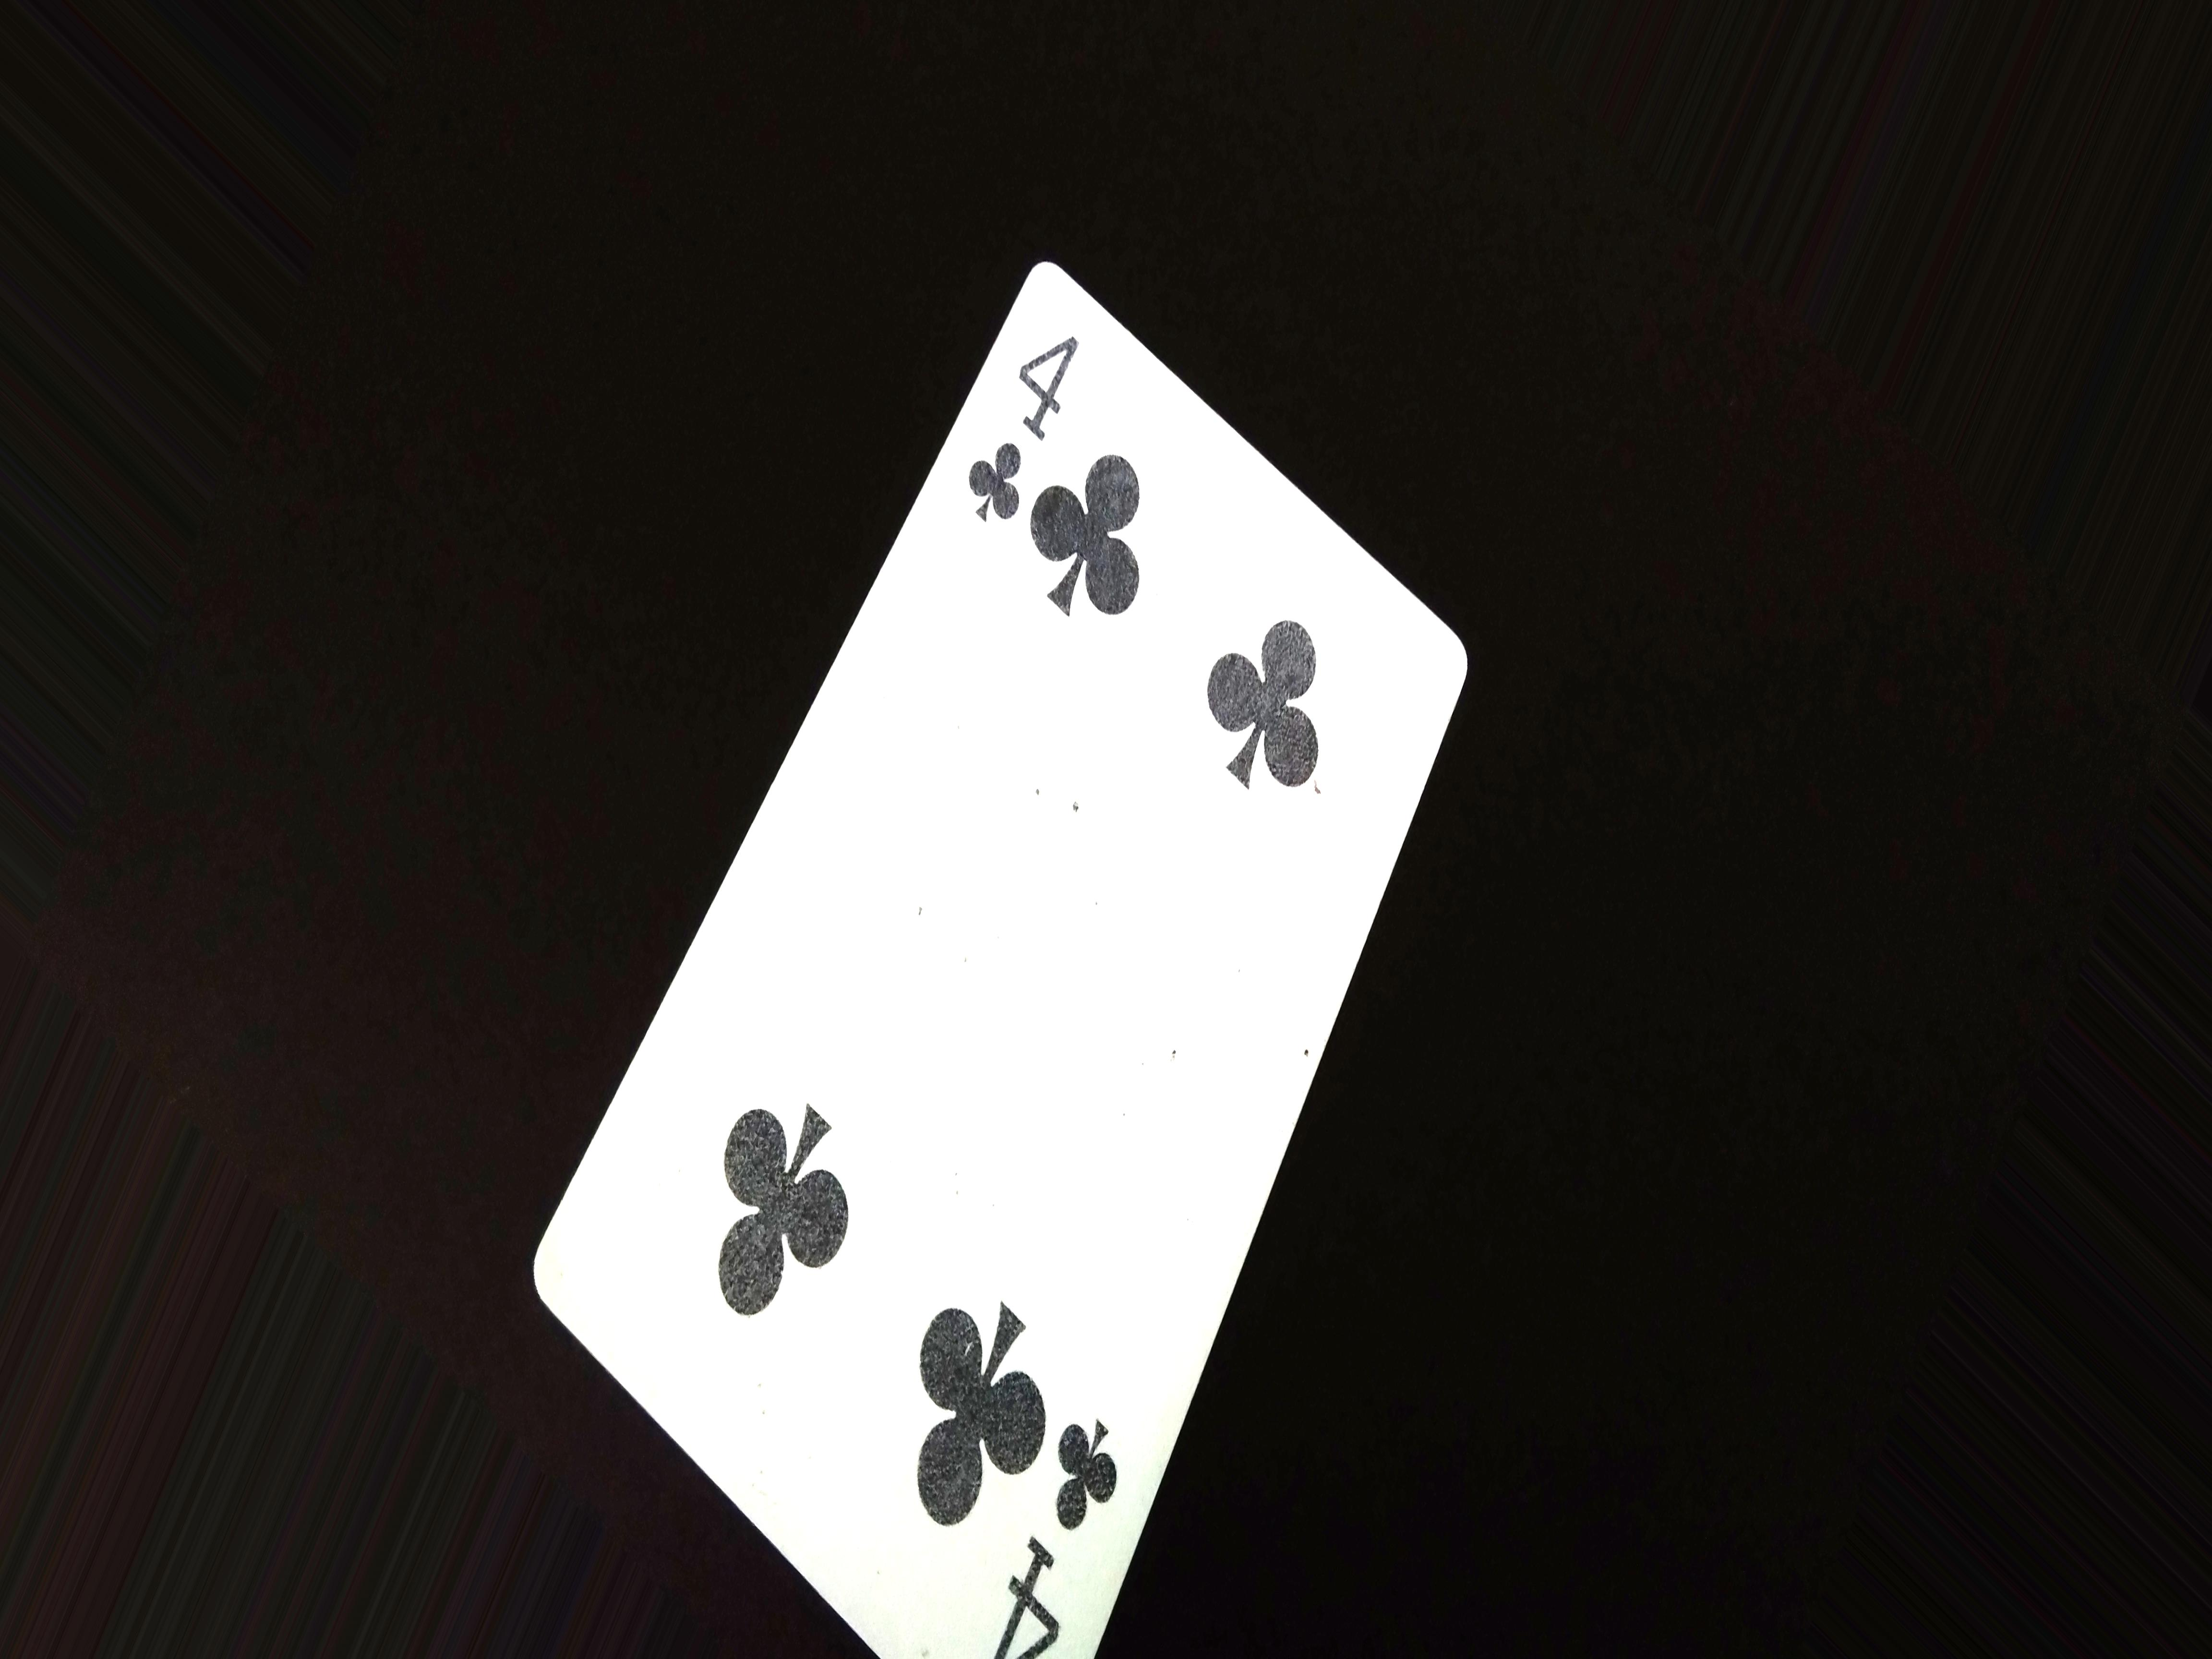4C: (965, 333, 1083, 530)
